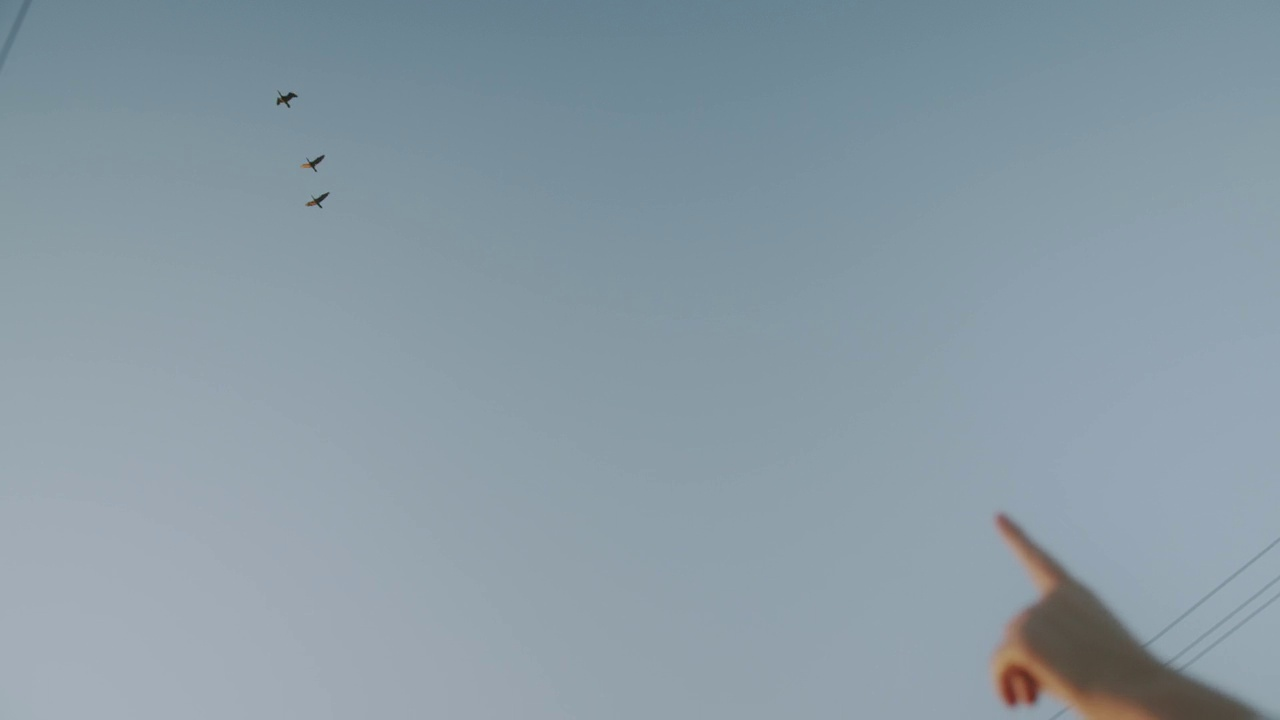bird: (274, 88, 298, 109), (298, 154, 323, 171), (305, 190, 330, 207)
